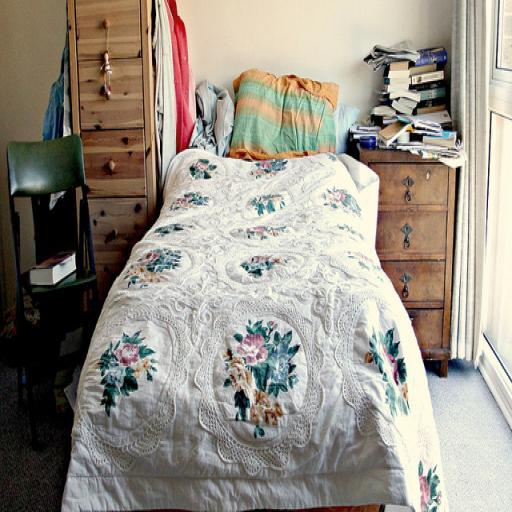bed: (66, 64, 412, 506)
